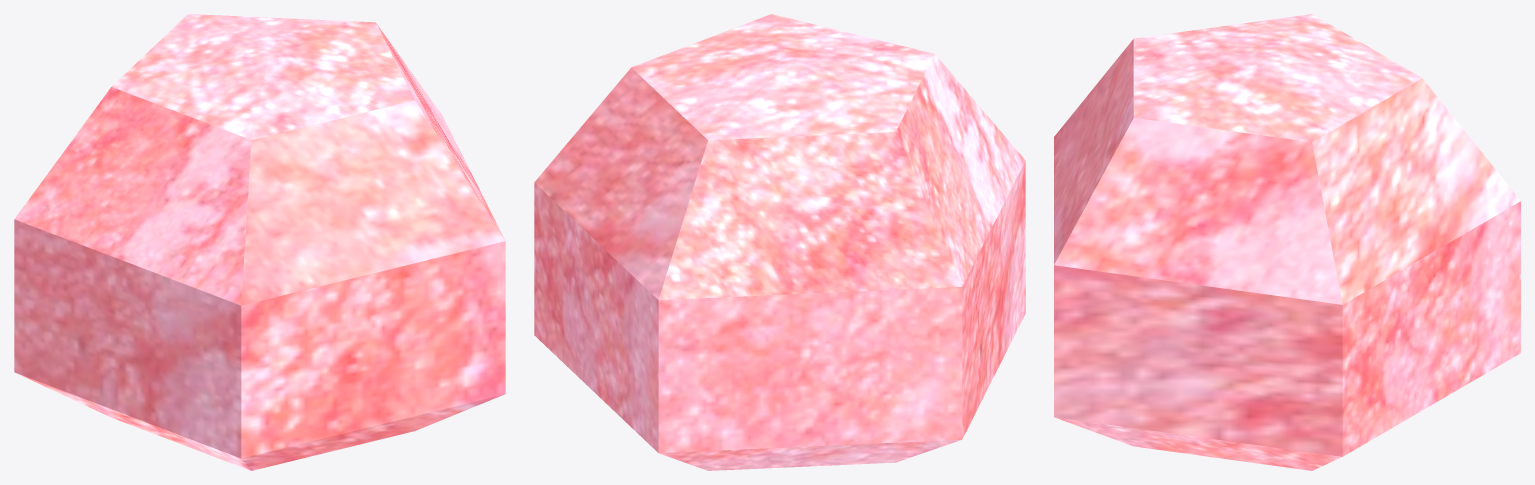
File: pickupable pebble.glb
3 renders of one model, left to right at view 1: azimuth 30°, elevation 25°; view 2: azimuth 150°, elevation 25°; view 3: azimuth 270°, elevation 25°, orthographic.
Visible parts, largest first — view 1: Sphere; view 2: Sphere; view 3: Sphere.
Part boxes in pixels (<box>): Sphere: <box>14,14,505,470</box>; Sphere: <box>534,14,1025,470</box>; Sphere: <box>1054,14,1520,470</box>.
Size of the model in its own units: 1.81 by 1.48 by 1.72.
Materials: 1 (1 with a texture image).
